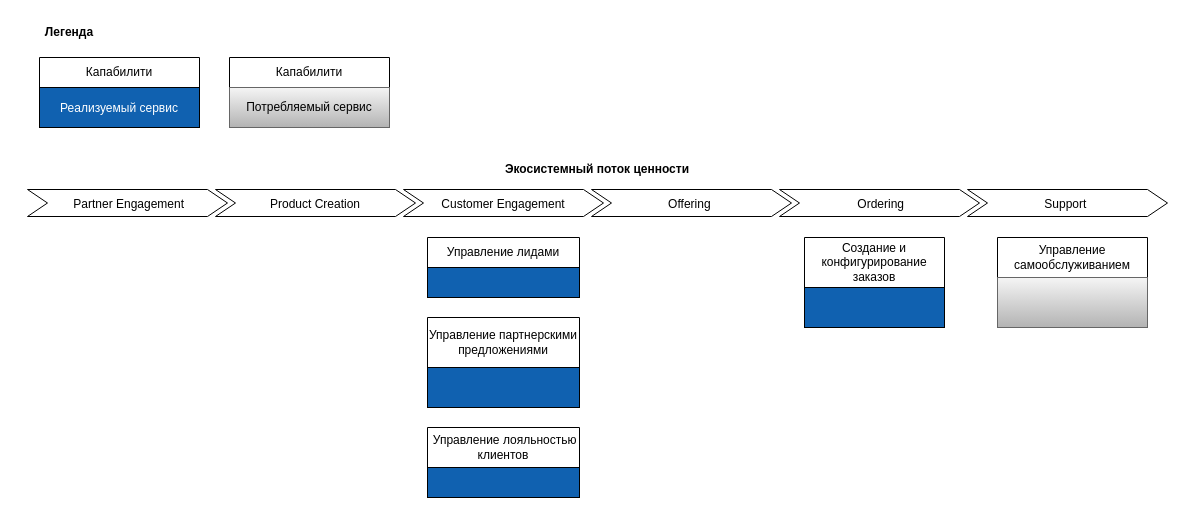
This 1194x515 diagram has some shape labels left out. The centre of each missing label's shape, as x and y in pixels:
Каталог предложений партнеров: the point at 503,387
Предоставление Промокодов: the point at 503,282
Управление подарками: the point at 503,482
Управление подписками: the point at 874,307
Чат-бот поддержки: the point at 1072,302
